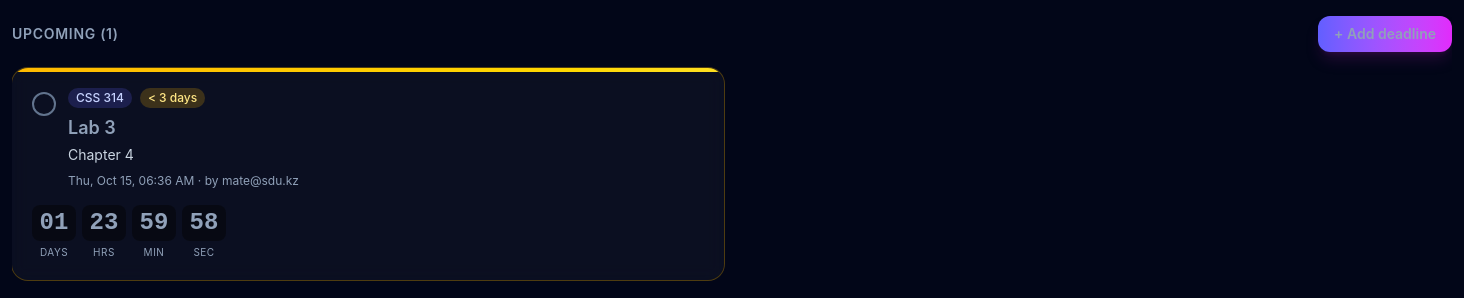
it: ticking the checkbox sends PUT /done and fires confetti
What coordinates should you click on to do the following:
click the checkbox named "Mark Lab 3 done"
I would click on:
 (44, 104)
Its box is x1=32 y1=92 x2=56 y2=116.
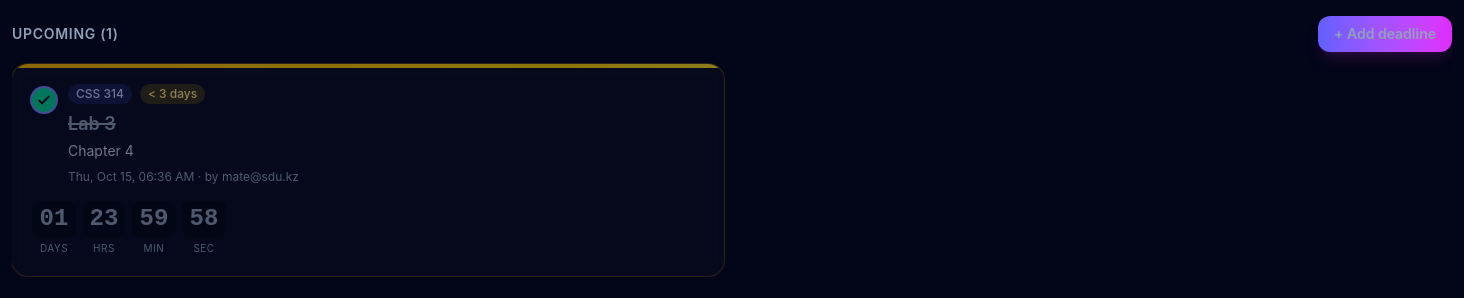
Expected: the checkbox named "Mark Lab 3 not done" is checked, x1=32 y1=88 x2=56 y2=112
